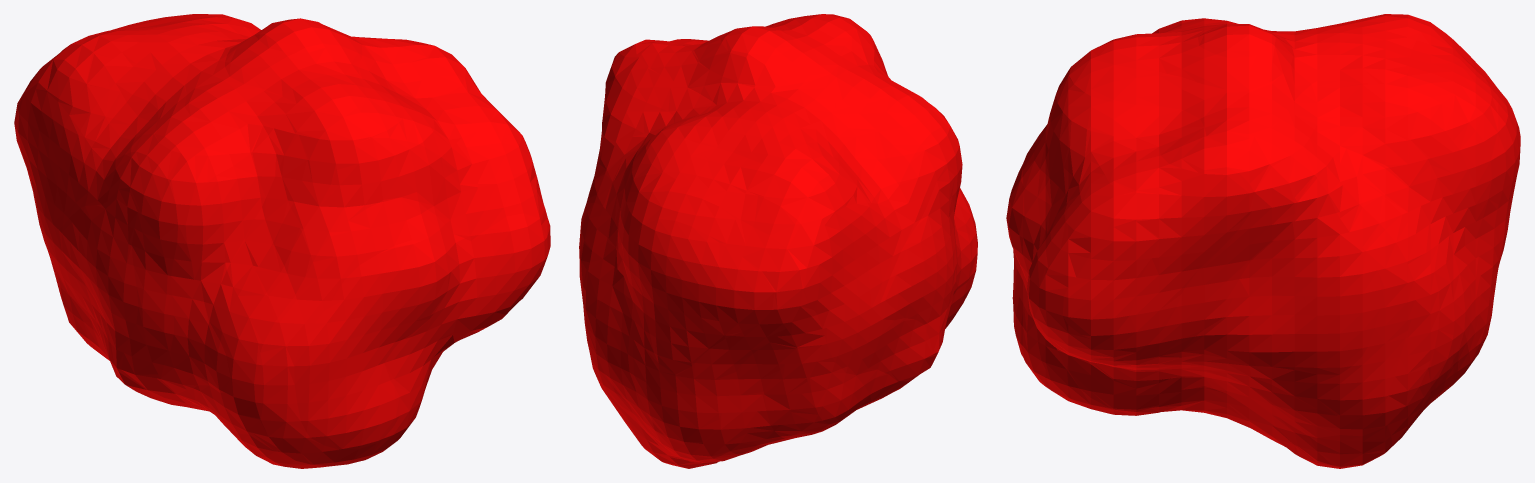
The model's file is ubiC_coarse.dae.
The picture shows the model from 3 angles, left to right: view 1: azimuth 30°, elevation 25°; view 2: azimuth 150°, elevation 25°; view 3: azimuth 270°, elevation 25°; orthographic projection. The views are drawn at different scales.
Parts seen in each view (by area): view 1: ubiC; view 2: ubiC; view 3: ubiC.
Boxes of the visible parts, <box> form: ubiC: <box>14,14,550,468</box>; ubiC: <box>579,14,977,468</box>; ubiC: <box>1006,14,1520,468</box>.
Bounding box in the file's own units: 37.36 × 40.5 × 44.2.
